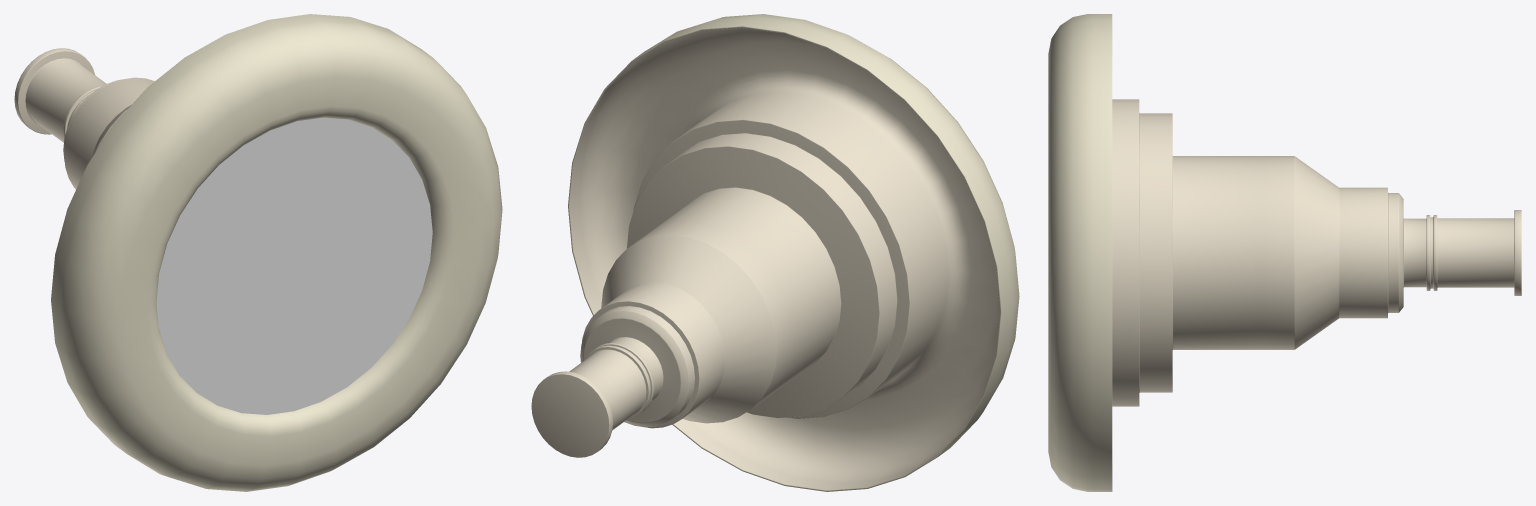
The model's file is RegularJet2-transformed.glb.
3 views of the same model, side by side, from view 1: azimuth 30°, elevation 25°; view 2: azimuth 150°, elevation 25°; view 3: azimuth 270°, elevation 25° (orthographic). The views are drawn at different scales.
Parts seen in each view (by area): view 1: RegularJet, Mask; view 2: RegularJet; view 3: RegularJet.
Boxes of the visible parts, bbox=[...] form: RegularJet: bbox=[14, 14, 502, 491]; Mask: bbox=[156, 118, 432, 414]; RegularJet: bbox=[531, 14, 1019, 491]; RegularJet: bbox=[1048, 14, 1521, 491].
Bounding box in the file's own units: 0.5799 × 0.5799 × 0.5737.
